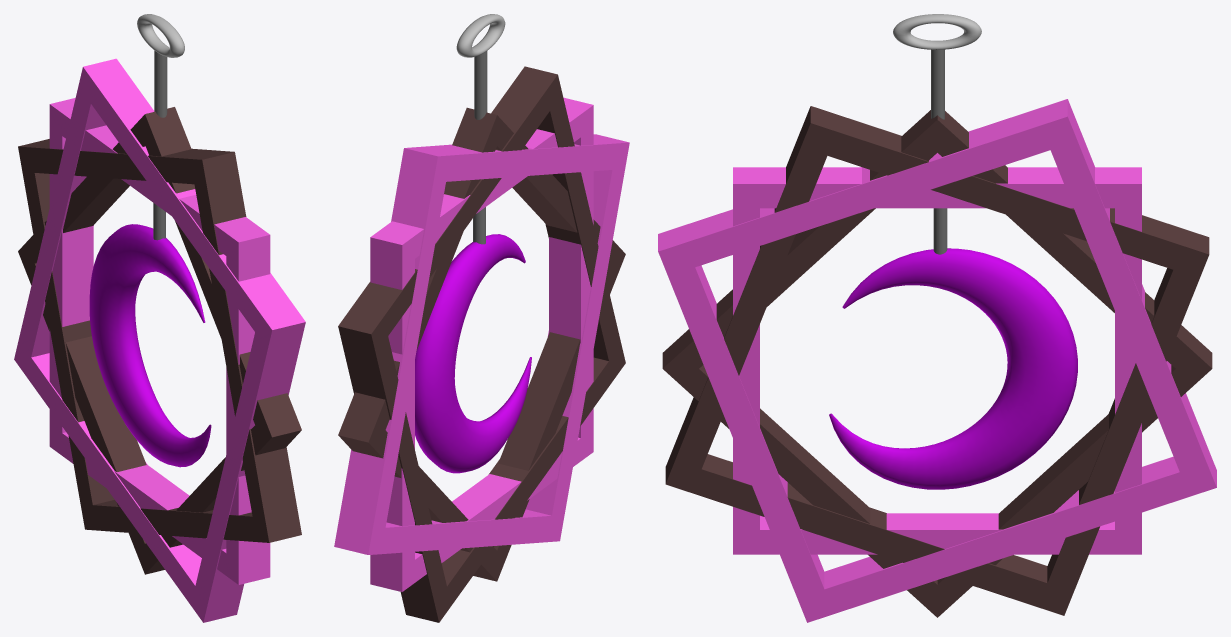
Rendered from amuleto.fbx.
3 renders of one model, left to right at view 1: azimuth 30°, elevation 25°; view 2: azimuth 150°, elevation 25°; view 3: azimuth 270°, elevation 25°, orthographic. The views are drawn at different scales.
Parts seen in each view (by area): view 1: Cube.003, Cube.002, Cube.001, Cube, NurbsPath, Cylinder.001, Cylinder; view 2: Cube.003, Cube.002, Cube.001, Cube, NurbsPath, Cylinder.001, Cylinder; view 3: Cube.003, Cube.002, NurbsPath, Cube, Cube.001, Cylinder.001.
Part boxes in pixels (left/top/right/bottom): Cube.003: left=14, top=58, right=305, bottom=622; Cube.002: left=18, top=139, right=301, bottom=542; Cube.001: left=49, top=98, right=270, bottom=584; Cube: left=18, top=107, right=301, bottom=574; NurbsPath: left=89, top=224, right=211, bottom=467; Cylinder.001: left=137, top=14, right=184, bottom=117; Cylinder: left=153, top=203, right=165, bottom=240; Cube.003: left=334, top=134, right=629, bottom=554; Cube.002: left=338, top=66, right=625, bottom=622; Cube.001: left=370, top=97, right=593, bottom=591; Cube: left=338, top=107, right=625, bottom=581; NurbsPath: left=415, top=234, right=531, bottom=473; Cylinder.001: left=456, top=14, right=505, bottom=119; Cylinder: left=473, top=207, right=485, bottom=244; Cube.003: left=658, top=99, right=1216, bottom=622; Cube.002: left=665, top=106, right=1209, bottom=615; NurbsPath: left=829, top=248, right=1077, bottom=489; Cube: left=662, top=110, right=1212, bottom=617; Cube.001: left=733, top=167, right=1141, bottom=554; Cylinder.001: left=893, top=14, right=981, bottom=119.
Bounding box in the file's own units: 22.43 × 340 × 287.
